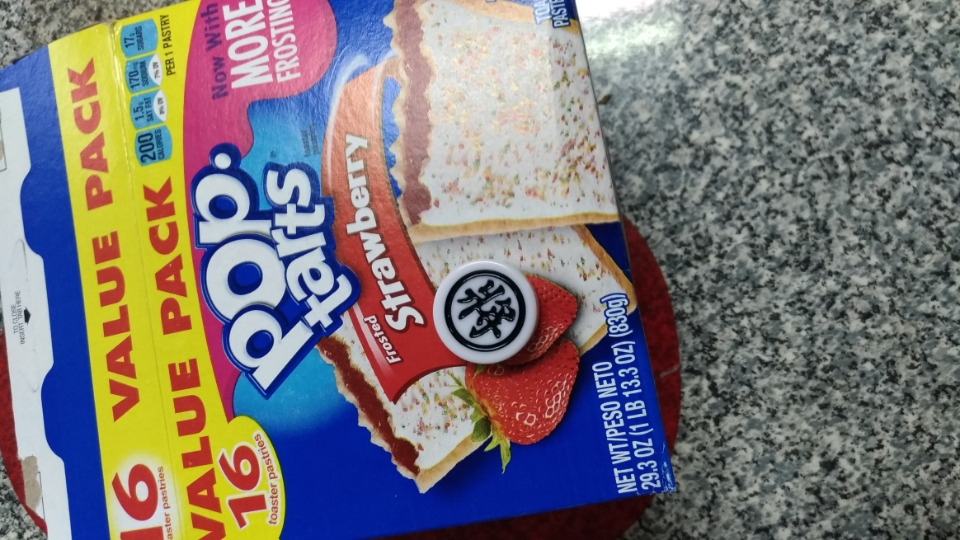b-king: (422, 244, 549, 371)
